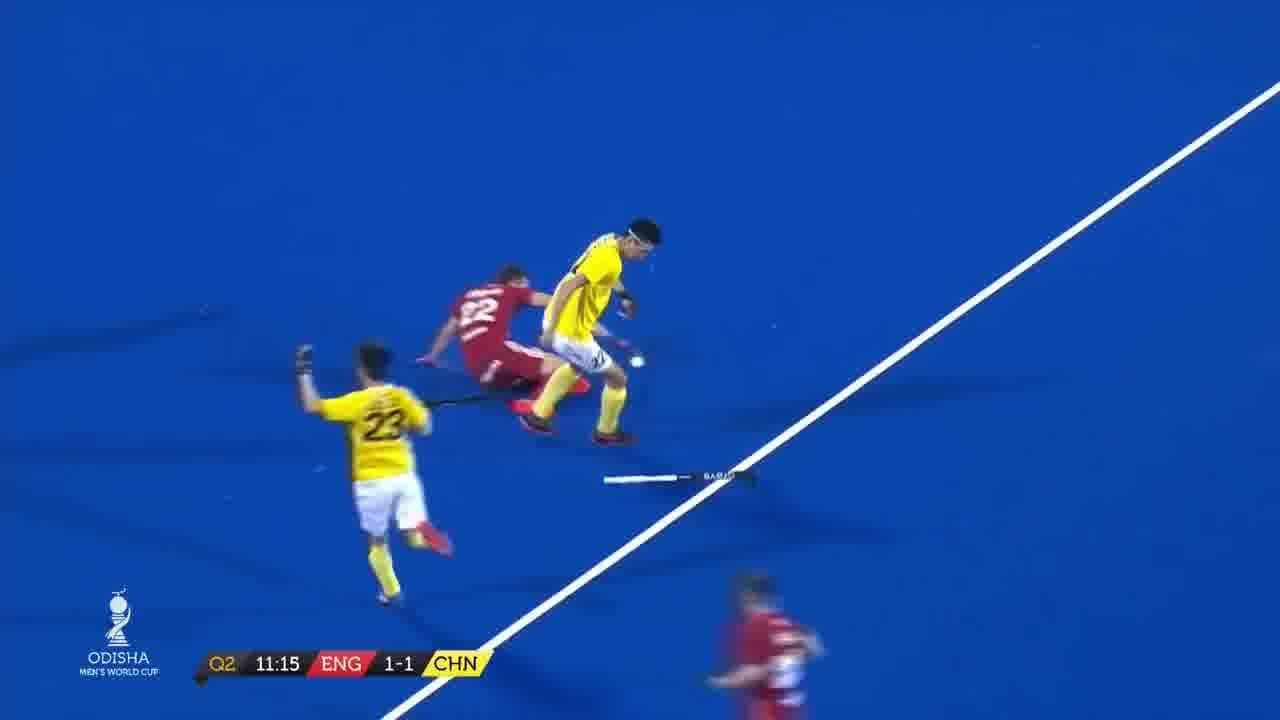ball: (630, 348, 648, 380)
